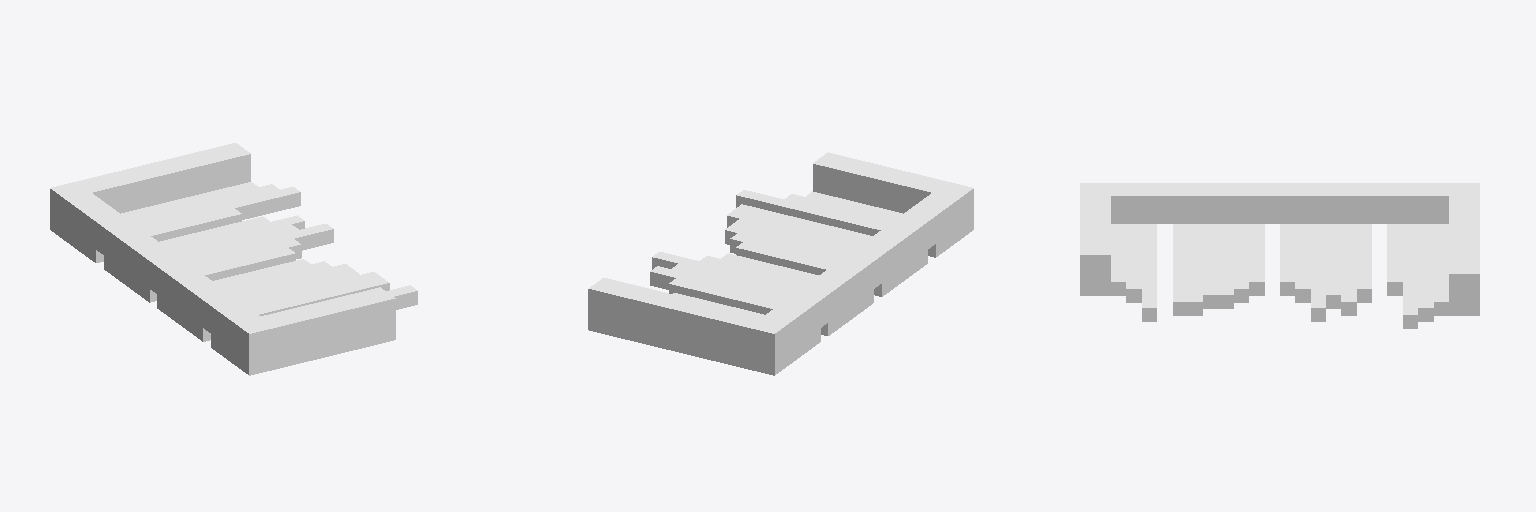
Rendered from crate_broken-0-6.obj.
The picture shows the model from 3 angles: view 1: azimuth 30°, elevation 25°; view 2: azimuth 150°, elevation 25°; view 3: azimuth 270°, elevation 25°; orthographic projection.
Visible parts, largest first — view 1: 6; view 2: 6; view 3: 6.
Part boxes in pixels (x1,y1,x2,y2): 6: (50,143,417,375); 6: (588,152,973,375); 6: (1080,183,1479,328).
Bounding box in the file's own units: 1.6 × 0.3 × 2.6.